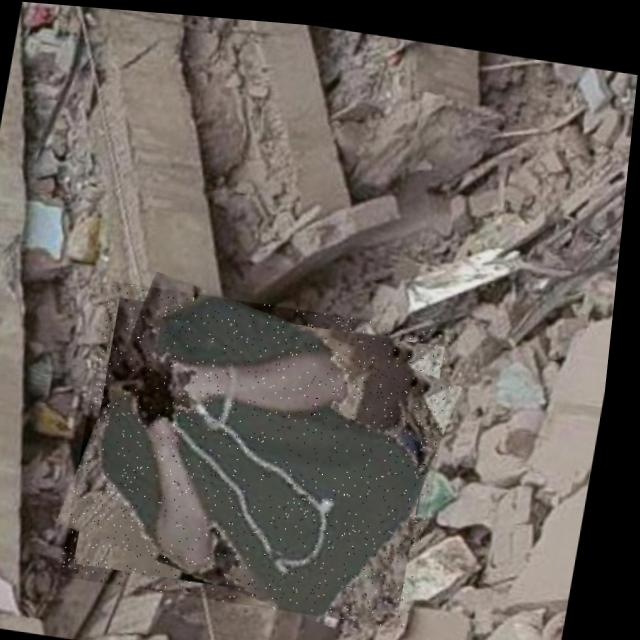Person in Rubble: (69, 276, 468, 621)
